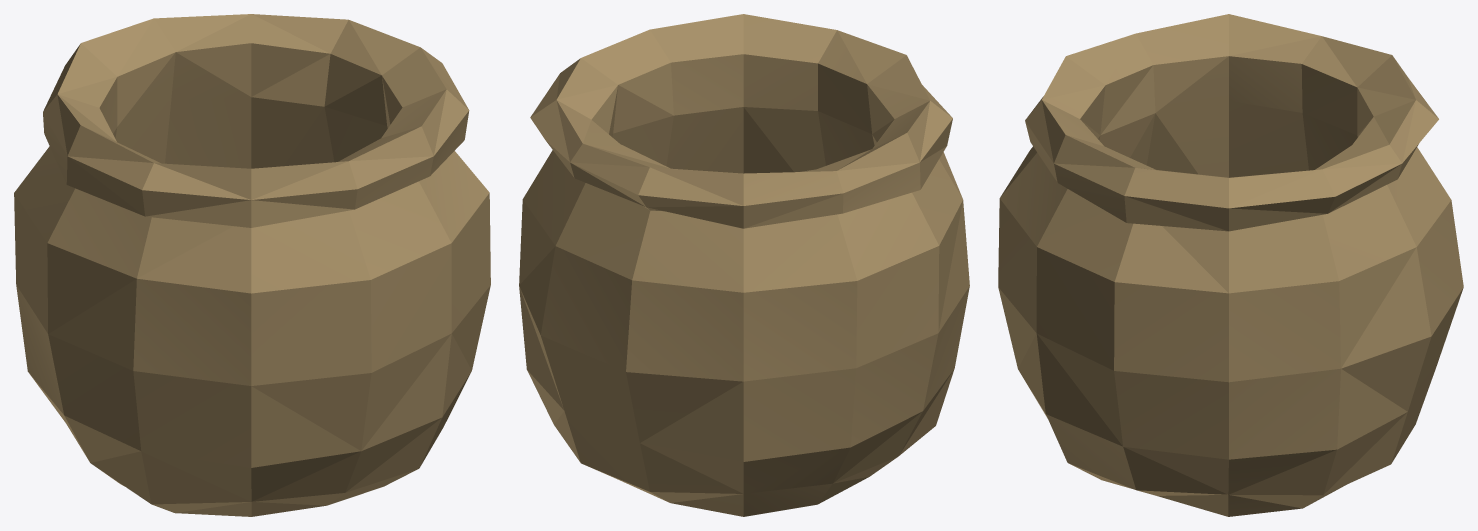
The model's file is Jarra_01.glb.
3 renders of one model, left to right at view 1: azimuth 30°, elevation 25°; view 2: azimuth 150°, elevation 25°; view 3: azimuth 270°, elevation 25°, orthographic. The views are drawn at different scales.
Visible parts, largest first — view 1: SM_Prop_Clay_Pot_01; view 2: SM_Prop_Clay_Pot_01; view 3: SM_Prop_Clay_Pot_01.
Part boxes in pixels (left/top/right/bottom): SM_Prop_Clay_Pot_01: left=14, top=14, right=490, bottom=516; SM_Prop_Clay_Pot_01: left=519, top=14, right=969, bottom=516; SM_Prop_Clay_Pot_01: left=998, top=14, right=1463, bottom=516.
Bounding box in the file's own units: 0.5862 × 0.5166 × 0.604.
1 material, 1 textured.
